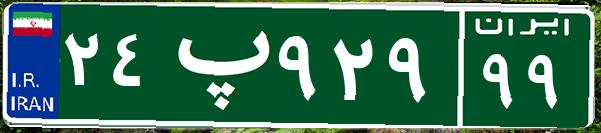2: (330, 28, 385, 110), (57, 26, 110, 107)
4: (110, 28, 158, 105)
9: (385, 28, 445, 110), (273, 28, 330, 110), (475, 38, 525, 113), (525, 38, 570, 115)
پ: (158, 15, 273, 115)
